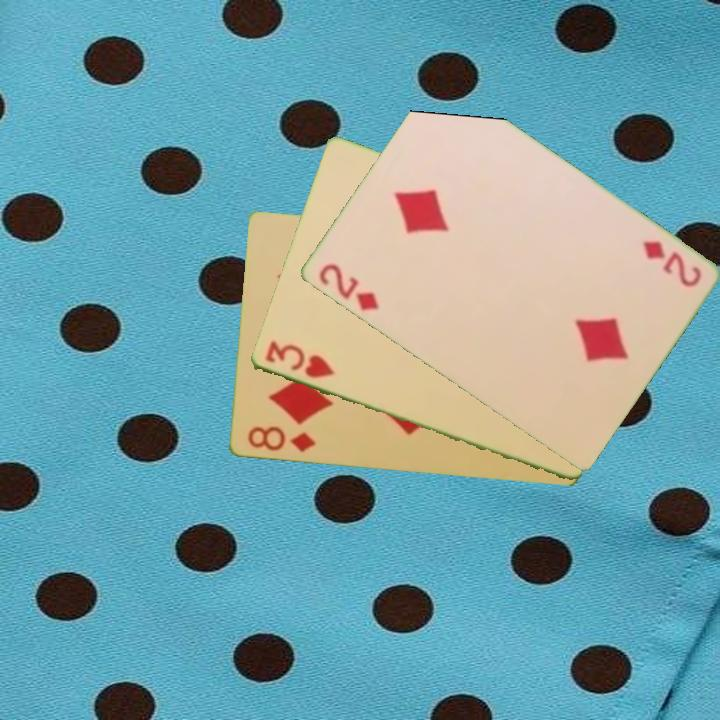2d: (314, 259, 382, 314), (638, 237, 704, 291)
3h: (261, 337, 337, 382)
8d: (244, 423, 318, 456)
